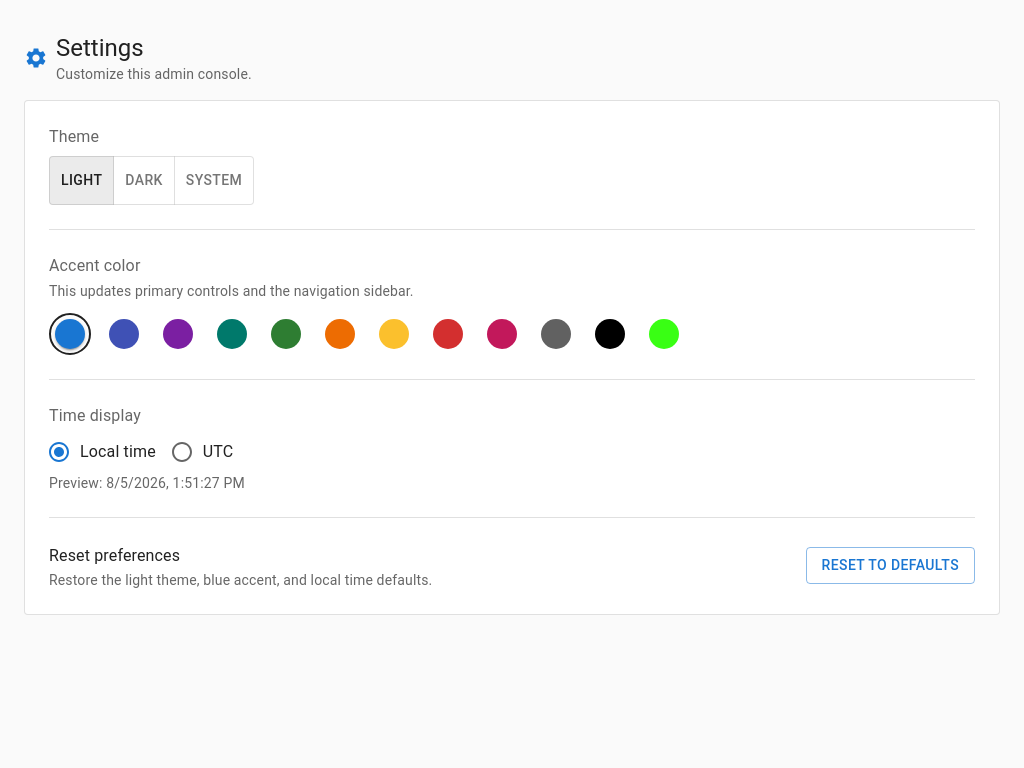
Test: Settings page › restores the defaults and shows confirmation after saving
The image size is (1024, 768).
What coordinates should you click on to do the following:
click the button with aria-label "Dark theme"
I would click on:
 (144, 180)
Its box is left=113, top=156, right=175, bottom=204.
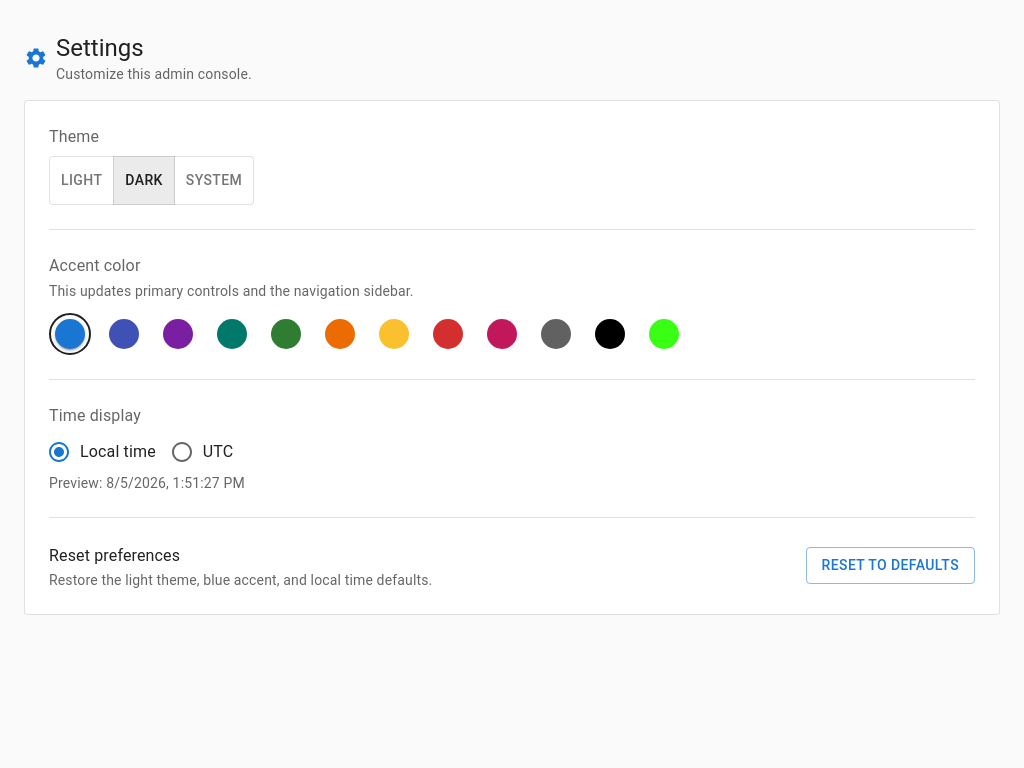
What coordinates should you click on to do the following:
click the button "Reset to defaults"
I would click on:
 (890, 566)
Its box is left=806, top=547, right=975, bottom=584.
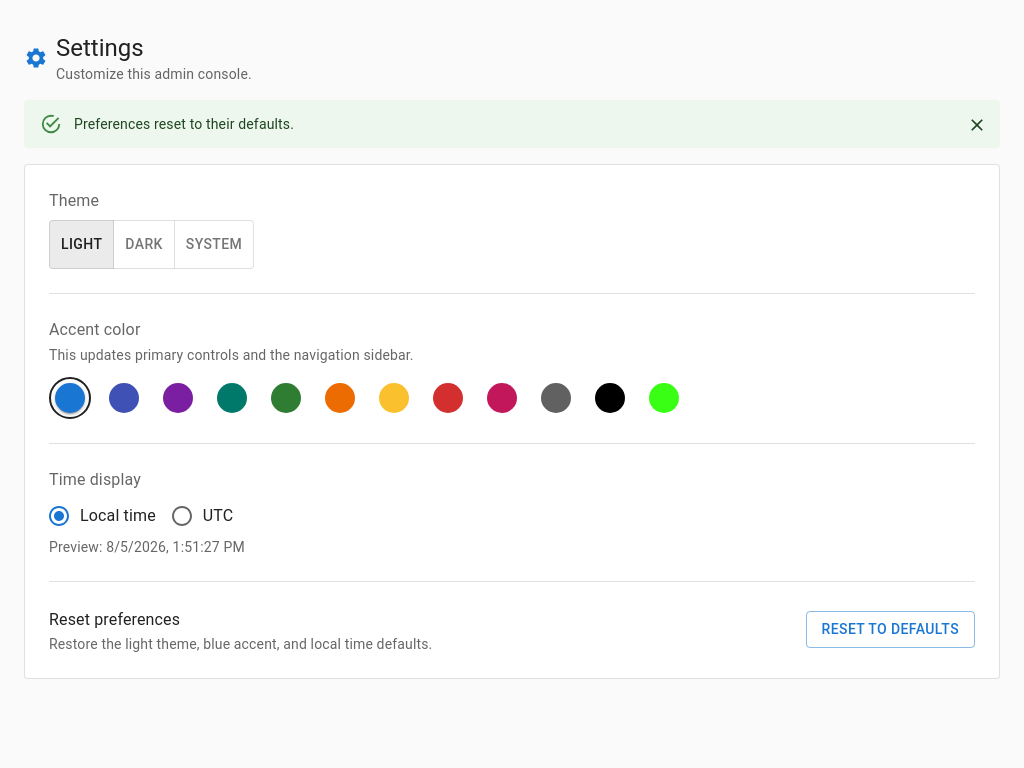
Result: the text "Preferences reset to their defaults." is shown at left=74, top=116, right=294, bottom=132
